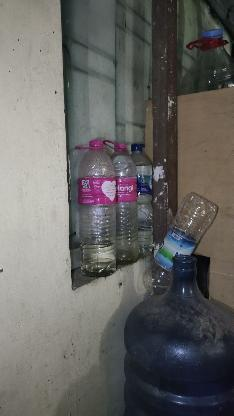Plastic Bottle: (144, 192, 218, 298), (69, 140, 116, 276), (110, 143, 138, 264), (127, 144, 153, 262)
